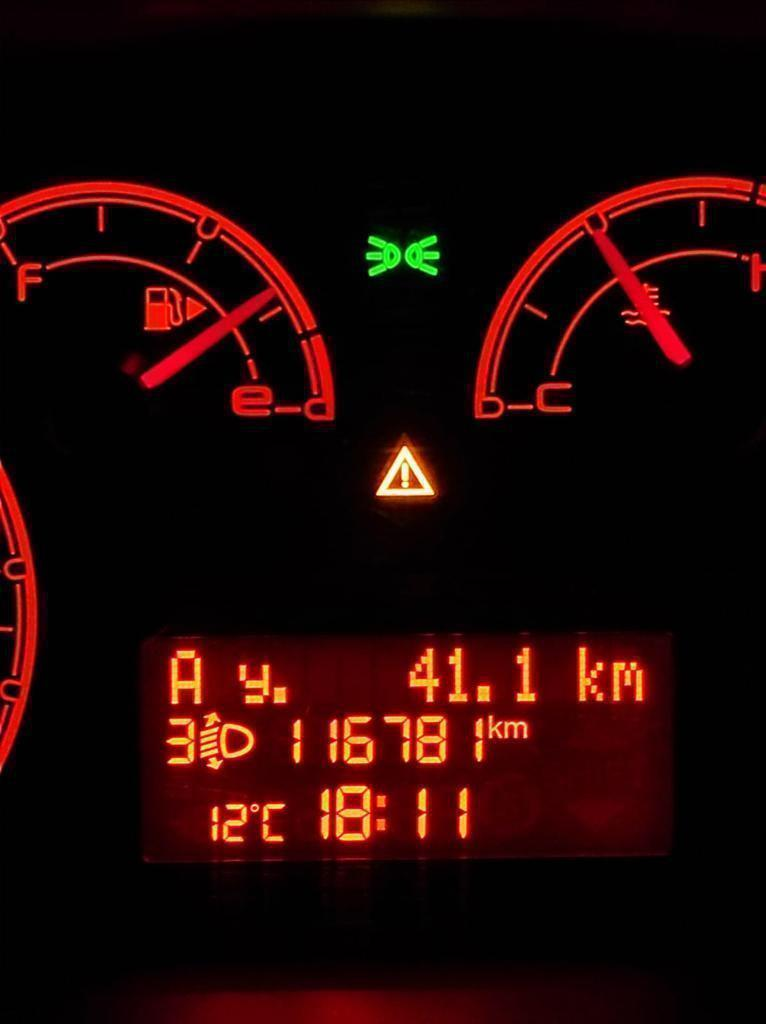,: (270, 683, 288, 706), (474, 681, 492, 704)
1: (510, 643, 540, 704), (445, 642, 470, 704), (451, 783, 474, 841), (411, 784, 432, 841), (285, 715, 307, 764), (313, 786, 331, 841), (322, 716, 340, 765), (468, 713, 485, 761), (204, 802, 221, 843)
2: (222, 802, 247, 844)
3: (162, 713, 197, 767)
4: (403, 645, 443, 705)
6: (343, 712, 377, 766)
7: (379, 712, 412, 764)
8: (333, 781, 373, 844), (414, 712, 450, 766)
X: (167, 647, 203, 706), (574, 641, 607, 704), (233, 659, 271, 706), (609, 659, 645, 703), (259, 801, 288, 844), (373, 792, 389, 832), (486, 710, 503, 740), (504, 719, 528, 740)
odometer: (135, 623, 683, 871)
